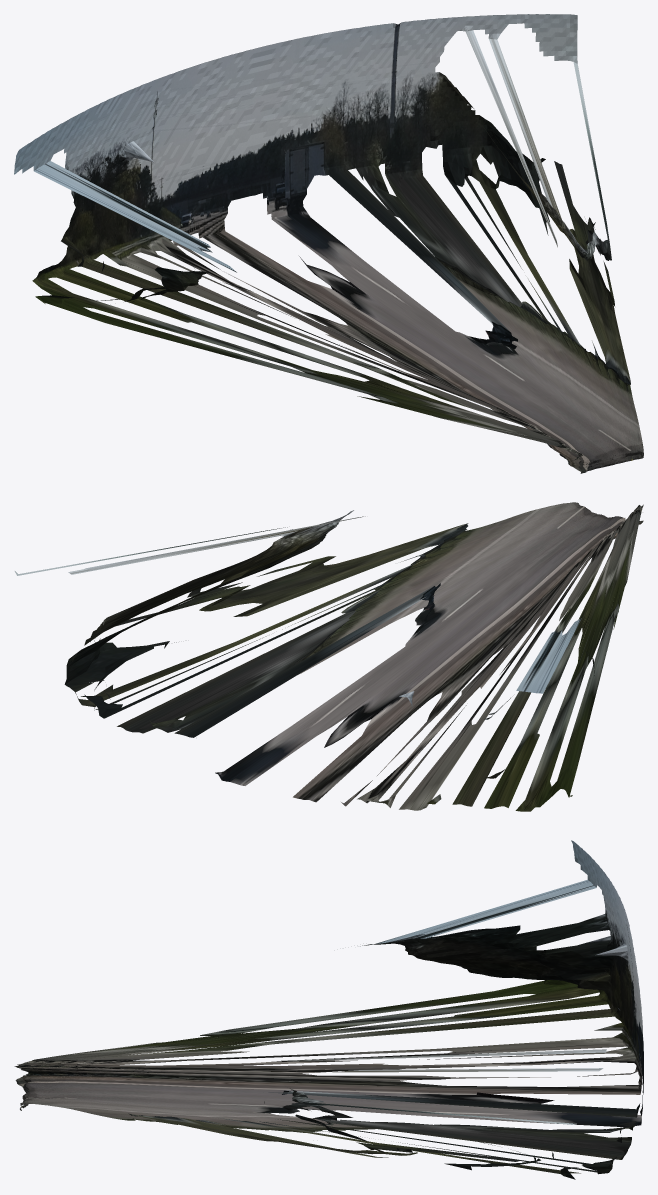
The picture shows the model from 3 angles, top to bottom: view 1: azimuth 30°, elevation 25°; view 2: azimuth 150°, elevation 25°; view 3: azimuth 270°, elevation 25°; orthographic projection. The views are drawn at different scales.
Visible parts, largest first — view 1: defaultobject; view 2: defaultobject; view 3: defaultobject.
Part boxes in pixels (left/top/right/bottom): defaultobject: left=14, top=14, right=643, bottom=473; defaultobject: left=14, top=502, right=643, bottom=811; defaultobject: left=14, top=840, right=643, bottom=1179.
Bounding box in the file's own units: 40.81 × 12.49 × 44.79.
Materials: 1 (1 with a texture image).
